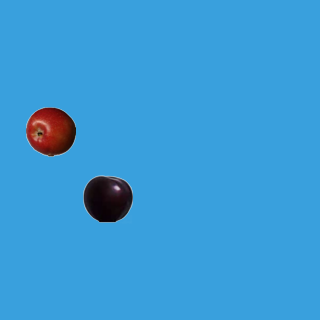Apple Braeburn: (25, 106, 75, 156)
Cherry Wax Black: (82, 173, 132, 223)
